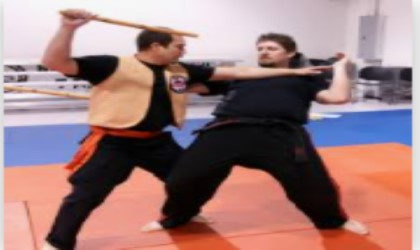baston_e: (91, 14, 195, 31), (7, 82, 90, 103)
baston_v: (190, 28, 202, 44)
